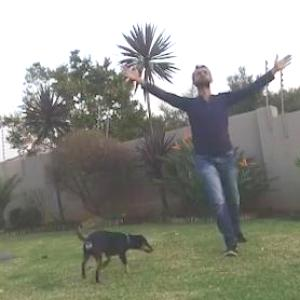takeoff: (138, 59, 294, 238)
